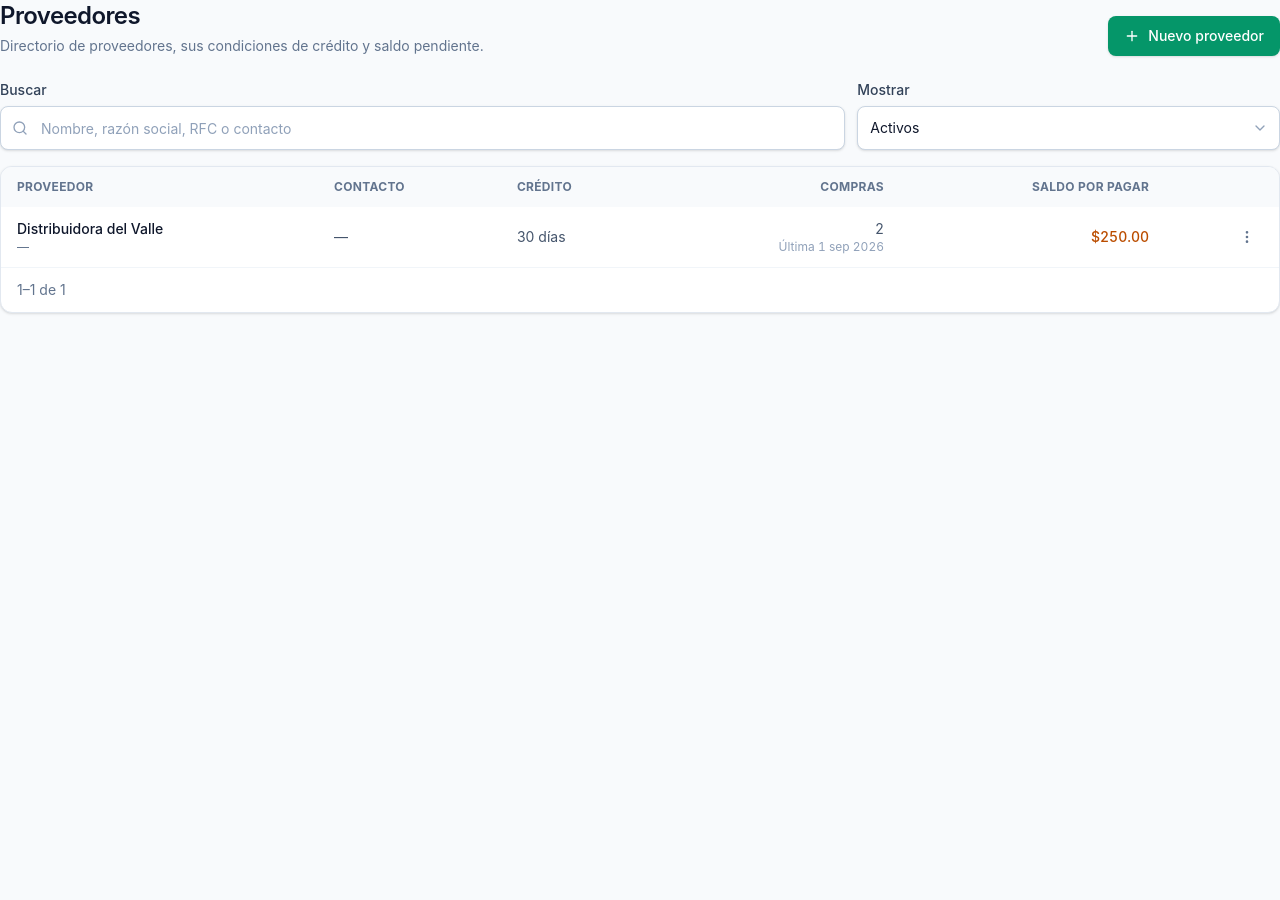
Test: SuppliersPage › valida el RFC antes de enviar y el farmacéutico sólo consulta
Expected: the text "Distribuidora del Valle" is shown, [17, 220, 163, 237]
Click the button "Nuevo proveedor": click(1194, 36) [1108, 16, 1279, 56]
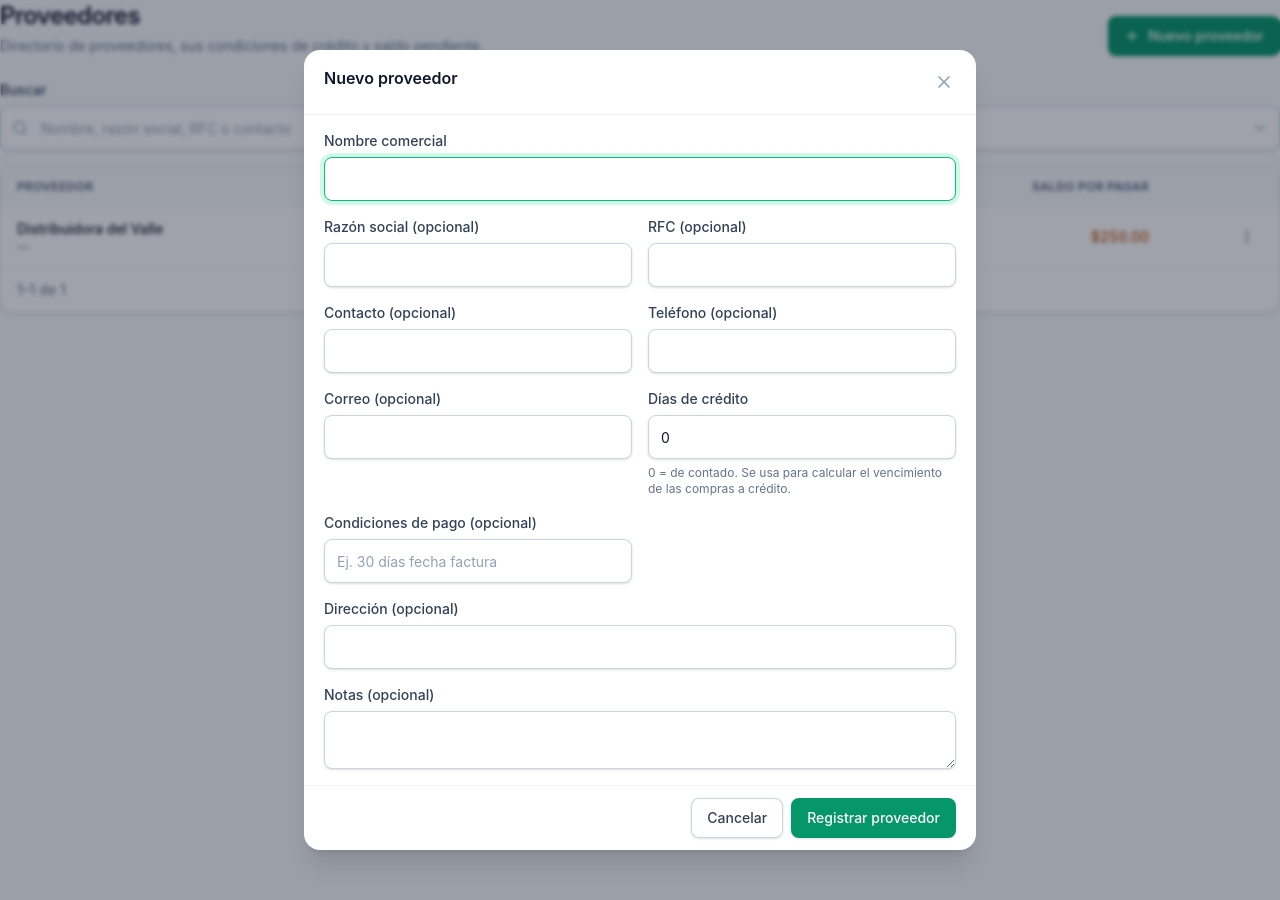
In the field labelled "Nombre comercial": (640, 179) [324, 157, 956, 201], type "Nuevo"
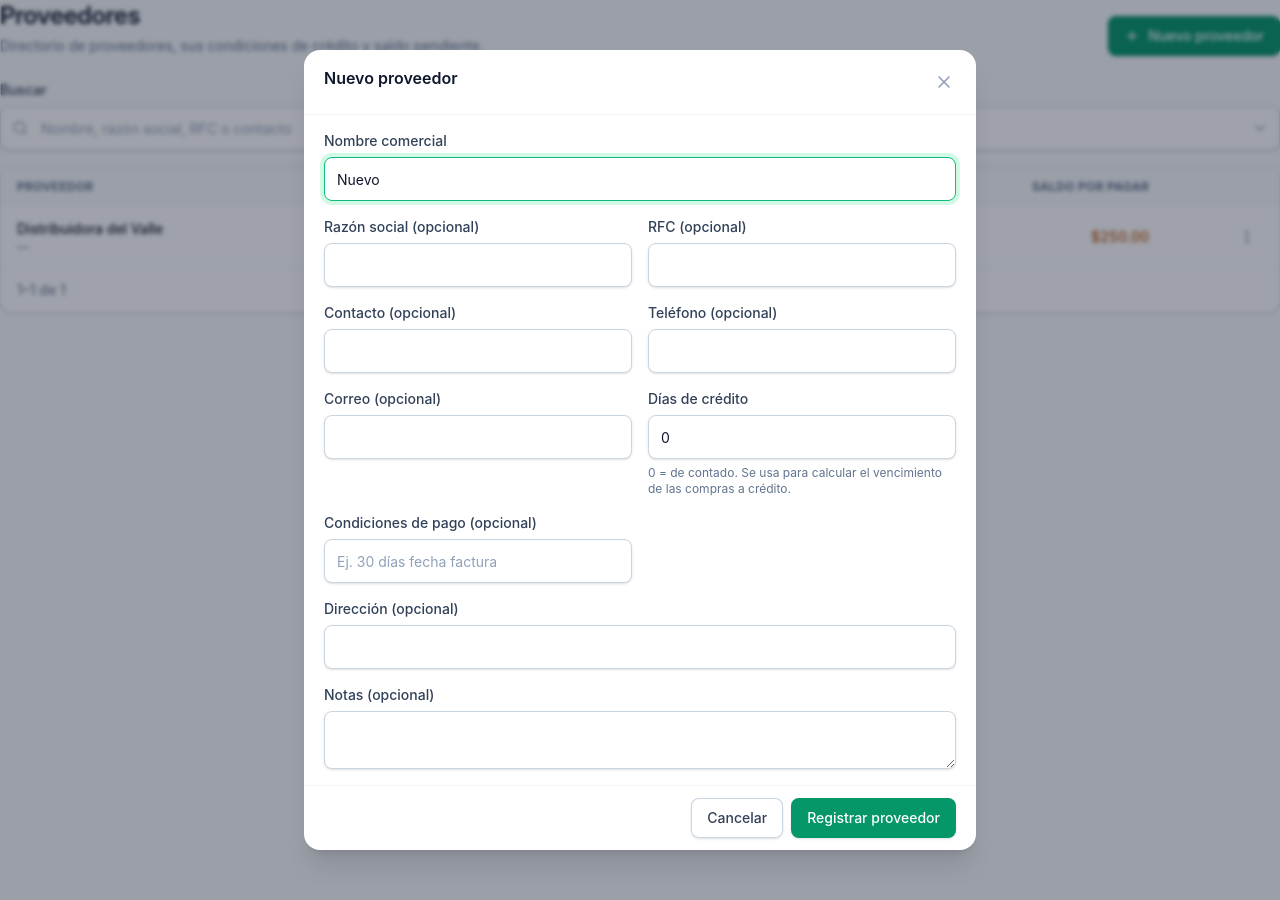
In the field labelled "RFC (opcional)": (802, 265) [648, 243, 956, 287], type "123"
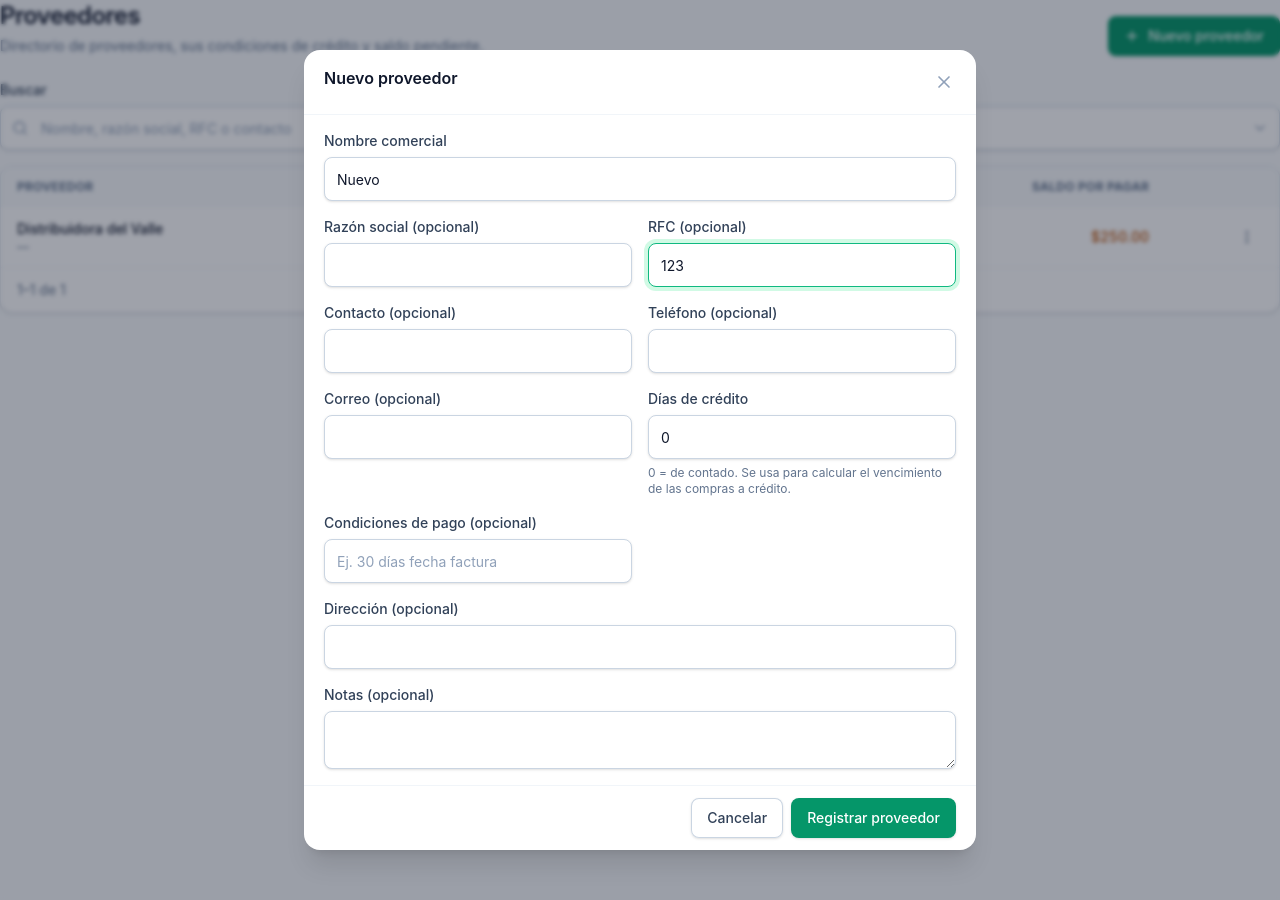
Click the button "Registrar proveedor": click(874, 818) [791, 798, 956, 838]
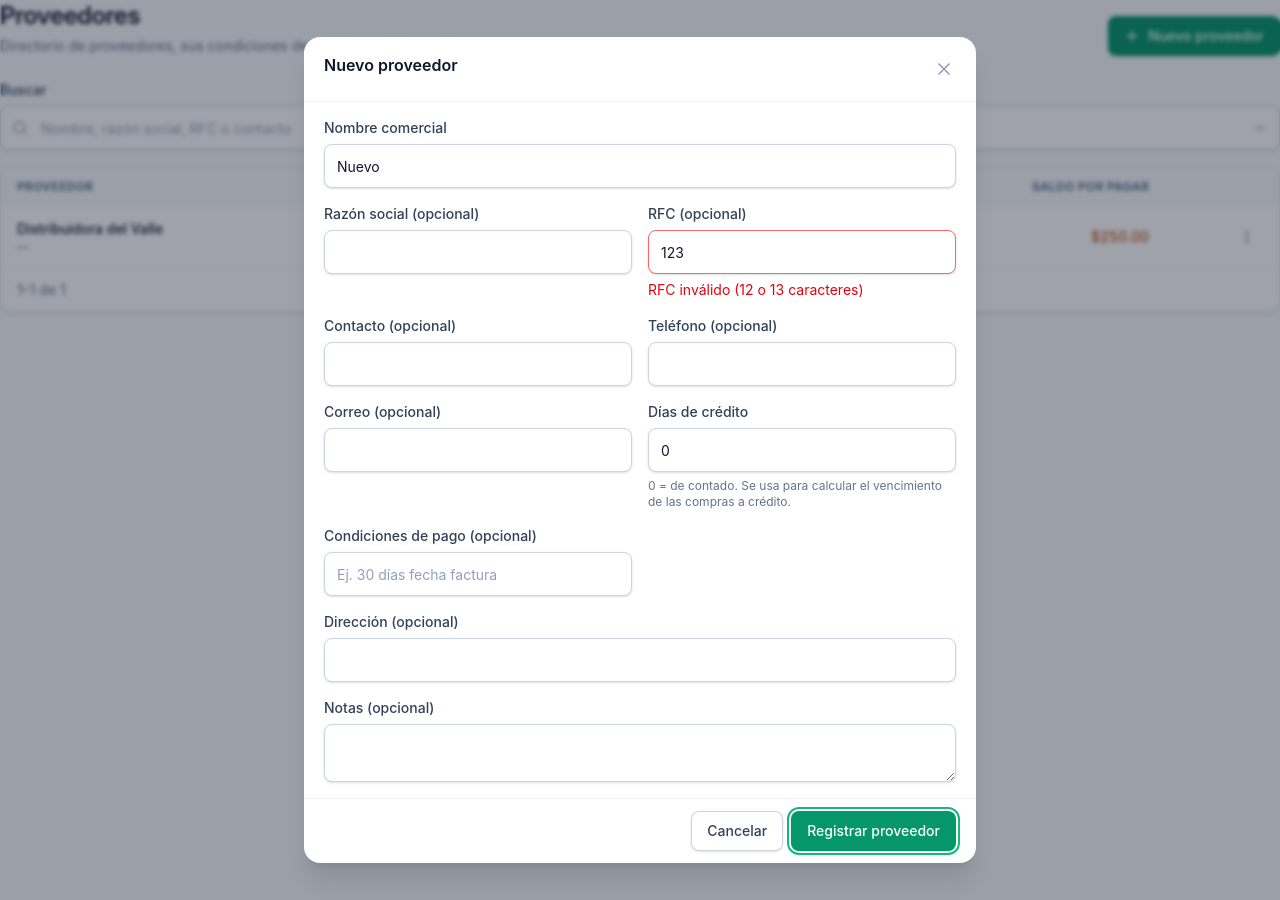
Result: the text "RFC inválido (12 o 13 caracteres)" is shown at [648, 281, 864, 298]
